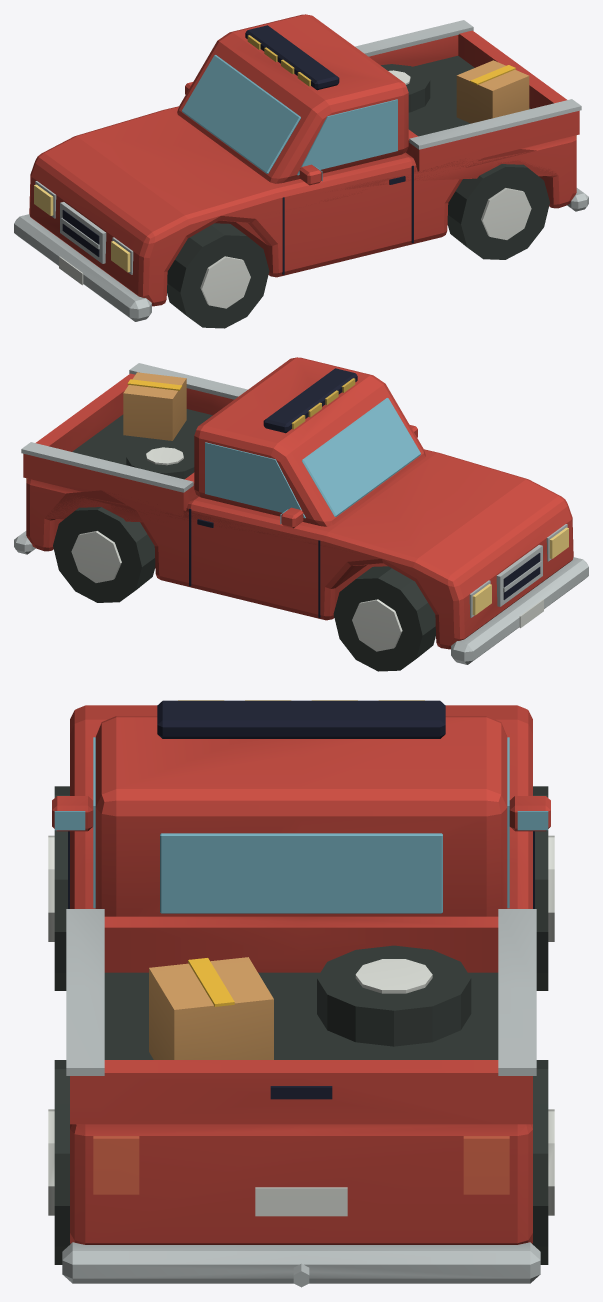
The model's file is sm_vehicle_parked_pickup.glb.
The picture shows the model from 3 angles, top to bottom: view 1: azimuth 30°, elevation 25°; view 2: azimuth 150°, elevation 25°; view 3: azimuth 270°, elevation 25°; orthographic projection. The views are drawn at different scales.
Parts seen in each view (by area): view 1: CarBody, Cabin, Windshield, Tyre, Tyre.002, SideWindow.001, BedWall, Bumper, Parcel, BedLiner, BedRail, Tailgate (+9 smaller); view 2: CarBody, Cabin, Windshield, Tyre.001, Tyre.003, SideWindow, BedWall.001, Parcel, Bumper, Tailgate, BedLiner, BedRail.001 (+10 smaller); view 3: CarBody, Cabin, Tailgate, RearWindow, BedFrontWall, RearBumper, BedLiner, RoofBeacon, SpareTyre, Parcel, BedRail, BedRail.001 (+17 smaller).
Part boxes in pixels (x1=…): CarBody: x1=29, y1=106, x2=576, y2=306; Cabin: x1=177, y1=14, x2=408, y2=183; Windshield: x1=182, y1=55, x2=300, y2=173; Tyre: x1=167, y1=223, x2=269, y2=328; Tyre.002: x1=447, y1=164, x2=549, y2=259; SideWindow.001: x1=297, y1=99, x2=397, y2=175; BedWall: x1=411, y1=110, x2=579, y2=171; Bumper: x1=14, y1=214, x2=151, y2=321; Parcel: x1=456, y1=60, x2=529, y2=123; BedLiner: x1=408, y1=56, x2=530, y2=136; BedRail: x1=409, y1=99, x2=581, y2=149; Tailgate: x1=458, y1=30, x2=566, y2=108; CarBody: x1=26, y1=449, x2=573, y2=649; Cabin: x1=194, y1=357, x2=425, y2=526; Windshield: x1=302, y1=398, x2=420, y2=516; Tyre.001: x1=333, y1=566, x2=435, y2=671; Tyre.003: x1=53, y1=507, x2=155, y2=602; SideWindow: x1=205, y1=442, x2=305, y2=518; BedWall.001: x1=23, y1=453, x2=191, y2=516; Parcel: x1=123, y1=372, x2=186, y2=440; Bumper: x1=451, y1=557, x2=588, y2=664; Tailgate: x1=36, y1=373, x2=134, y2=451; BedLiner: x1=72, y1=409, x2=212, y2=464; BedRail.001: x1=21, y1=442, x2=193, y2=492; CarBody: x1=70, y1=705, x2=532, y2=1244; Cabin: x1=95, y1=716, x2=507, y2=916; Tailgate: x1=101, y1=1060, x2=501, y2=1124; RearWindow: x1=160, y1=833, x2=442, y2=913; BedFrontWall: x1=104, y1=916, x2=498, y2=972; RearBumper: x1=62, y1=1242, x2=540, y2=1283; BedLiner: x1=104, y1=972, x2=498, y2=1059; RoofBeacon: x1=157, y1=700, x2=445, y2=738; SpareTyre: x1=317, y1=945, x2=471, y2=1046; Parcel: x1=149, y1=957, x2=273, y2=1059; BedRail: x1=66, y1=909, x2=104, y2=1075; BedRail.001: x1=498, y1=909, x2=536, y2=1075.
Bounding box in the file's own units: 4.21 × 1.71 × 1.97.
